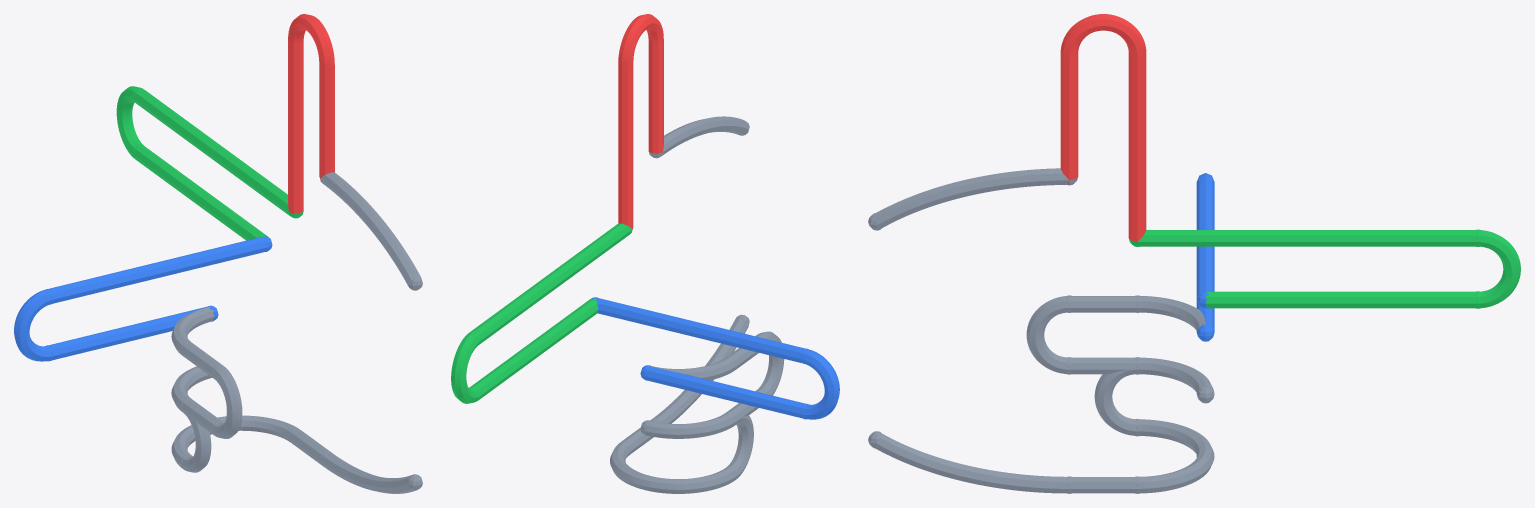
File: hand_right_three-axis_thick-outline-d032_u8_v1.glb
3 renders of one model, left to right at view 1: azimuth 30°, elevation 25°; view 2: azimuth 150°, elevation 25°; view 3: azimuth 270°, elevation 25°, orthographic. The views are drawn at different scales.
Bounding box in the file's own units: 5.86 × 9.55 × 11.8.
